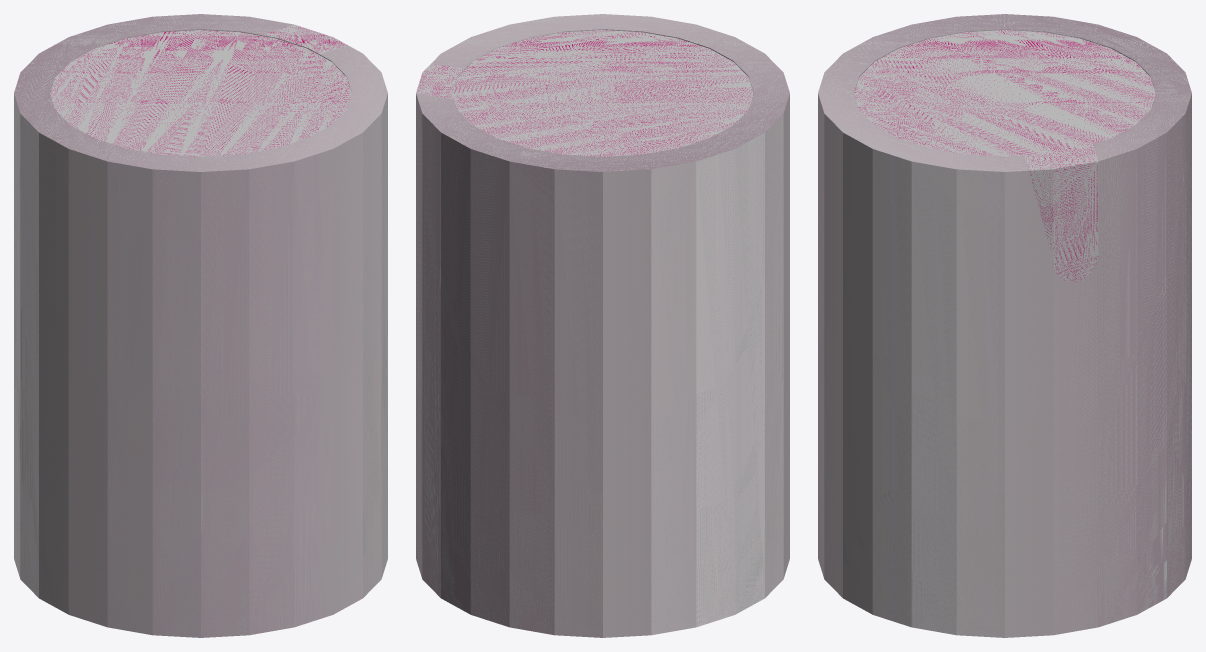
3 renders of one model, left to right at view 1: azimuth 30°, elevation 25°; view 2: azimuth 150°, elevation 25°; view 3: azimuth 270°, elevation 25°, orthographic.
Visible parts, largest first — view 1: mesh1_mesh1-geometry; view 2: mesh1_mesh1-geometry; view 3: mesh1_mesh1-geometry.
Boxes of the visible parts, left/top/right/bottom form: mesh1_mesh1-geometry: left=14, top=14, right=387, bottom=637; mesh1_mesh1-geometry: left=416, top=14, right=789, bottom=637; mesh1_mesh1-geometry: left=818, top=14, right=1191, bottom=637.
Bounding box in the file's own units: 0.507 × 0.697 × 0.507.
Materials: 3 (1 with a texture image).
